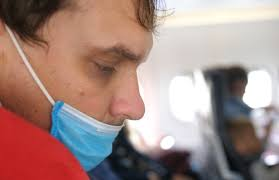mask_weared_incorrect: (1, 1, 155, 174)
